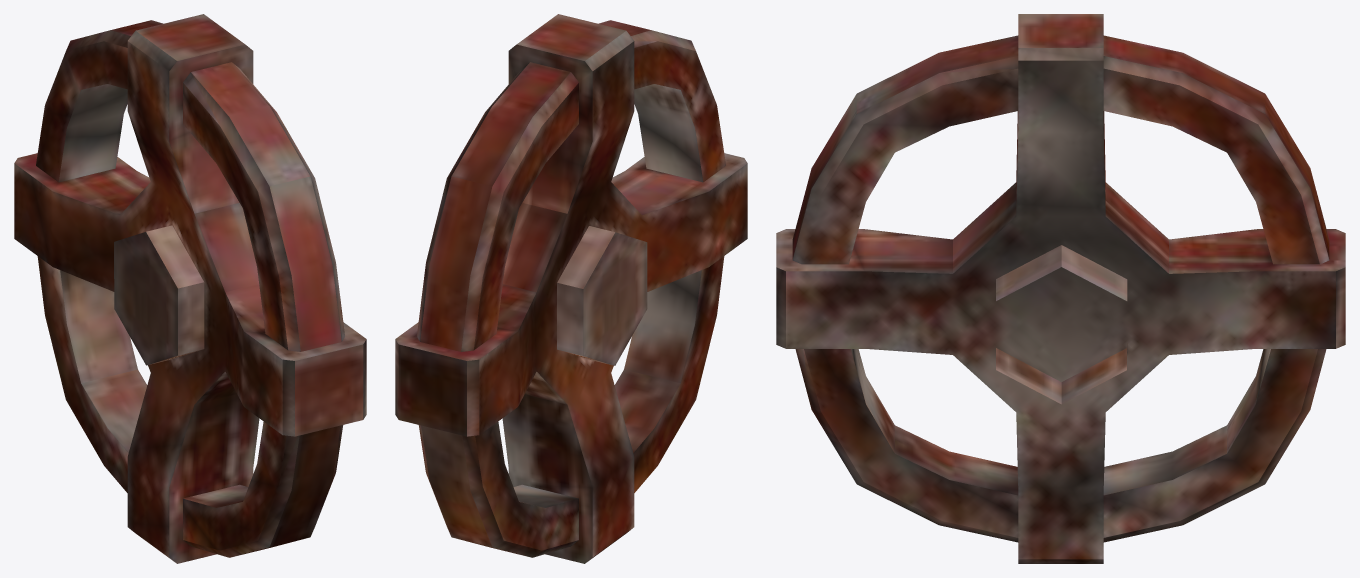
Rendered from stylized_pipe_05.glb.
3 views of the same model, side by side, from view 1: azimuth 30°, elevation 25°; view 2: azimuth 150°, elevation 25°; view 3: azimuth 270°, elevation 25° (orthographic). The views are drawn at different scales.
Parts seen in each view (by area): view 1: stylized_pipe_05; view 2: stylized_pipe_05; view 3: stylized_pipe_05.
Part boxes in pixels (x1,y1,x2,y2): stylized_pipe_05: (14, 14, 366, 563); stylized_pipe_05: (395, 14, 747, 563); stylized_pipe_05: (776, 14, 1345, 563).
Size of what is drawn, in the model's own units: 0.0297 by 0.1021 by 0.1021.
1 material, 1 textured.
